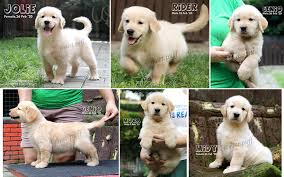Golden Retriever: (6, 98, 113, 171), (117, 2, 208, 85), (205, 97, 279, 172), (29, 9, 102, 81), (131, 96, 186, 177), (227, 7, 277, 86)
